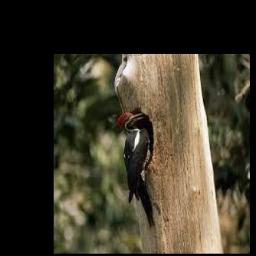Woodpecker: (117, 112, 155, 227)
